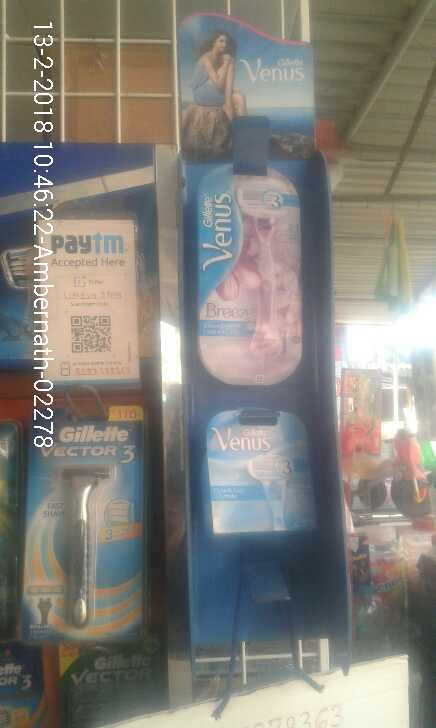beauty: (196, 164, 305, 382), (36, 430, 147, 631), (204, 409, 317, 532)
